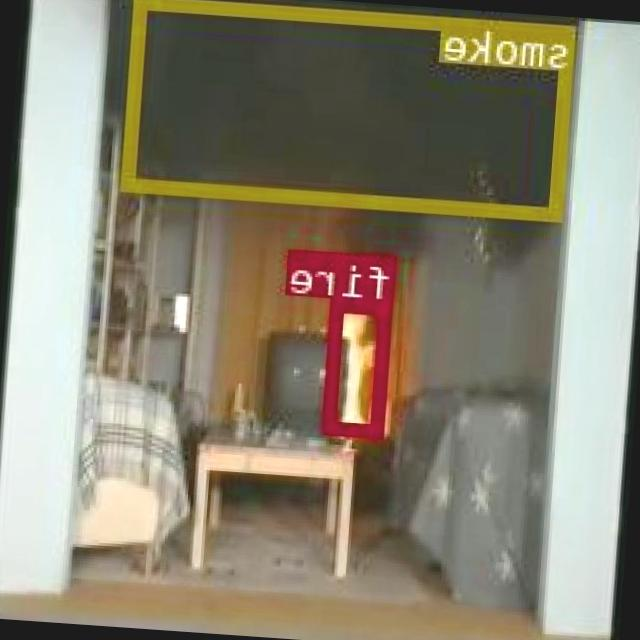fire: (326, 296, 396, 436)
smoke: (124, 0, 577, 218)
